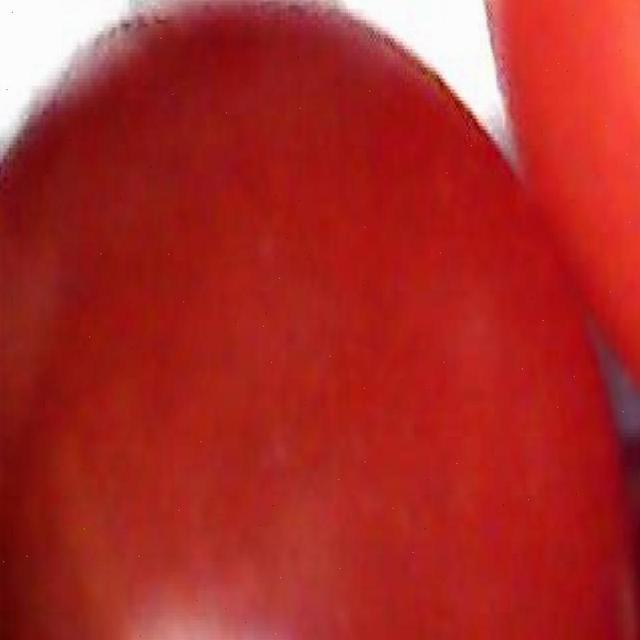Healthy Fruit: (0, 0, 420, 427)
